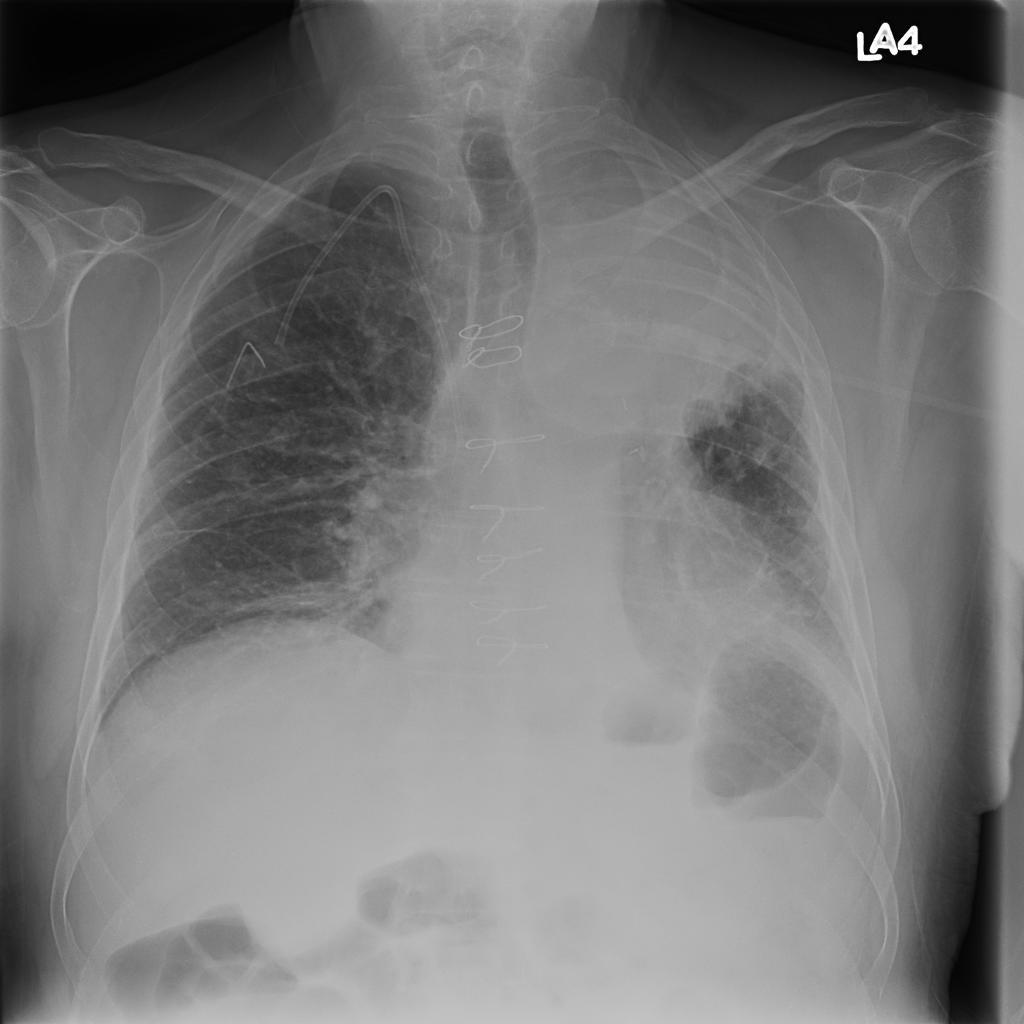Nodule: (376, 217, 404, 242), (198, 255, 226, 278), (212, 217, 235, 240), (108, 229, 132, 251)
